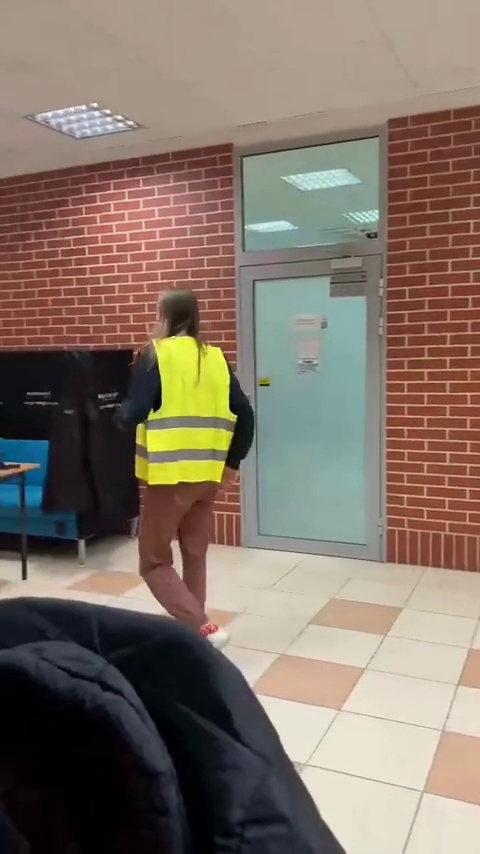vest: (122, 274, 259, 629)
